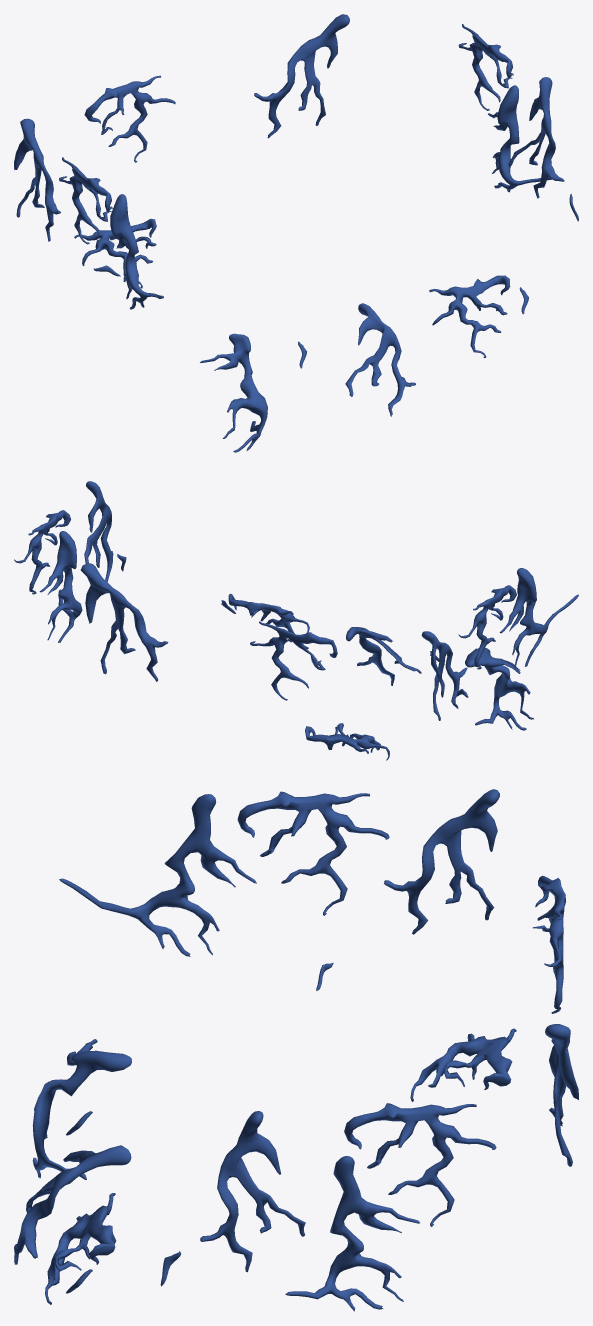
The model's file is Lower_Plaza_Roots.fbx.
3 renders of one model, top to bottom at view 1: azimuth 30°, elevation 25°; view 2: azimuth 150°, elevation 25°; view 3: azimuth 270°, elevation 25°, orthographic. The views are drawn at different scales.
Visible parts, largest first — view 1: Lower_Plaza_Roots; view 2: Lower_Plaza_Roots; view 3: Lower_Plaza_Roots.
Part boxes in pixels (x1,y1,x2,y2): Lower_Plaza_Roots: (14,14,578,452); Lower_Plaza_Roots: (14,481,578,760); Lower_Plaza_Roots: (14,789,578,1311).
Bounding box in the file's own units: 388 × 186 × 272.
